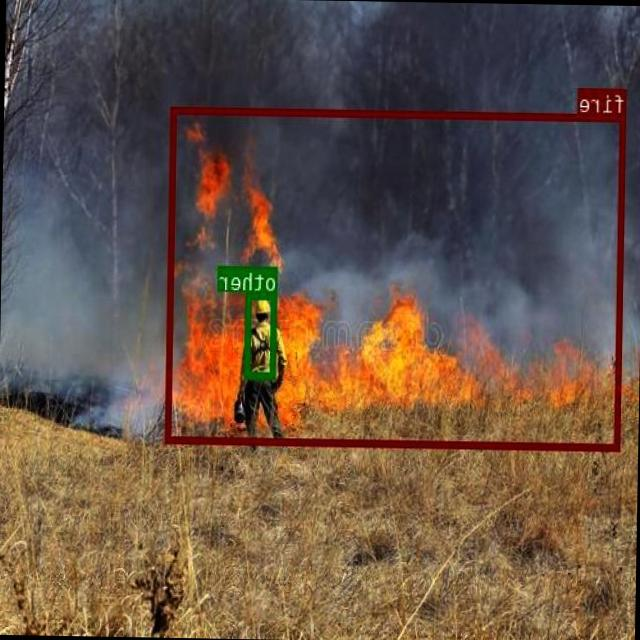fire: (167, 105, 627, 450)
